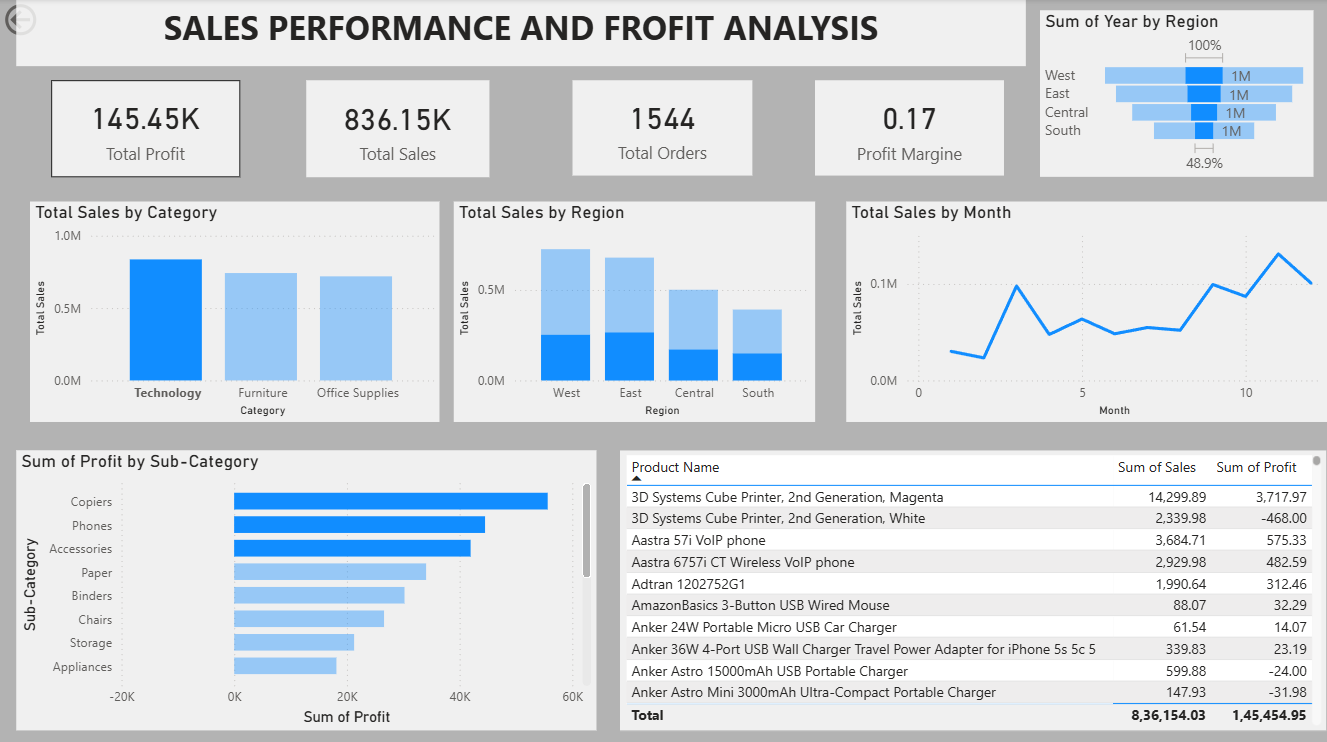

What the dashboard file says about the page in this screenshot:
{"tool":"powerbi","page":{"name":"Page 1","canvas":[1280,720],"ordinal":0},"visuals":[{"type":"actionButton","box":[0,0,100,40],"z":0},{"type":"card","fields":{"Values":["Sum(cleaned_superstore.Profit)"]},"box":[49.4,78.2,182.5,93.3],"z":1000},{"type":"card","fields":{"Values":["cleaned_superstore.Profit Margine"]},"box":[786.3,78.2,182.5,91.9],"z":2000},{"type":"card","fields":{"Values":["cleaned_superstore.Total Sales"]},"box":[295,78.2,177,93.3],"z":3000},{"type":"card","fields":{"Values":["cleaned_superstore.Total Orders"]},"box":[552.5,78.4,173.7,91.7],"z":4000},{"type":"lineChart","fields":{"Category":["cleaned_superstore.Month"],"Y":["cleaned_superstore.Total Sales"]},"box":[816.5,194.9,463.8,212.7],"z":5000},{"type":"clusteredColumnChart","fields":{"Y":["cleaned_superstore.Total Sales"],"Category":["cleaned_superstore.Category"]},"box":[28.8,194.9,395.2,212.7],"z":6000},{"type":"clusteredBarChart","fields":{"Category":["cleaned_superstore.Sub-Category"],"Y":["Sum(cleaned_superstore.Profit)"]},"box":[15.1,435,559.9,270.3],"z":7000},{"type":"clusteredColumnChart","fields":{"Category":["cleaned_superstore.Region"],"Y":["cleaned_superstore.Total Sales"]},"box":[437.7,194.9,348.5,212.7],"z":8000},{"type":"tableEx","fields":{"Values":["cleaned_superstore.Product Name","Sum(cleaned_superstore.Sales)","Sum(cleaned_superstore.Profit)"]},"box":[598.3,435,682,270.3],"z":9000},{"type":"funnel","fields":{"Y":["Sum(cleaned_superstore.Year)"],"Category":["cleaned_superstore.Region","cleaned_superstore.Category"]},"box":[1003.8,10.9,264.2,160.5],"z":10000},{"type":"textbox","box":[15.1,0,974.3,64.5],"z":11000}]}

Visuals, with their boxes in screenshot pixels (x1, y1, x2, y2), scaled from the page's 1280x720 canvas onto the 1327x742 screenshot:
actionButton: [left=0, top=0, right=104, bottom=41]
card - Sum(cleaned_superstore.Profit): [left=51, top=81, right=240, bottom=177]
card - cleaned_superstore.Profit Margine: [left=815, top=81, right=1004, bottom=175]
card - cleaned_superstore.Total Sales: [left=306, top=81, right=489, bottom=177]
card - cleaned_superstore.Total Orders: [left=573, top=81, right=753, bottom=175]
lineChart - cleaned_superstore.Month x cleaned_superstore.Total Sales: [left=846, top=201, right=1326, bottom=420]
clusteredColumnChart - cleaned_superstore.Total Sales x cleaned_superstore.Category: [left=30, top=201, right=440, bottom=420]
clusteredBarChart - cleaned_superstore.Sub-Category x Sum(cleaned_superstore.Profit): [left=16, top=448, right=596, bottom=727]
clusteredColumnChart - cleaned_superstore.Region x cleaned_superstore.Total Sales: [left=454, top=201, right=815, bottom=420]
tableEx - cleaned_superstore.Product Name x Sum(cleaned_superstore.Sales): [left=620, top=448, right=1326, bottom=727]
funnel - Sum(cleaned_superstore.Year) x cleaned_superstore.Region: [left=1041, top=11, right=1315, bottom=177]
textbox: [left=16, top=0, right=1026, bottom=66]
